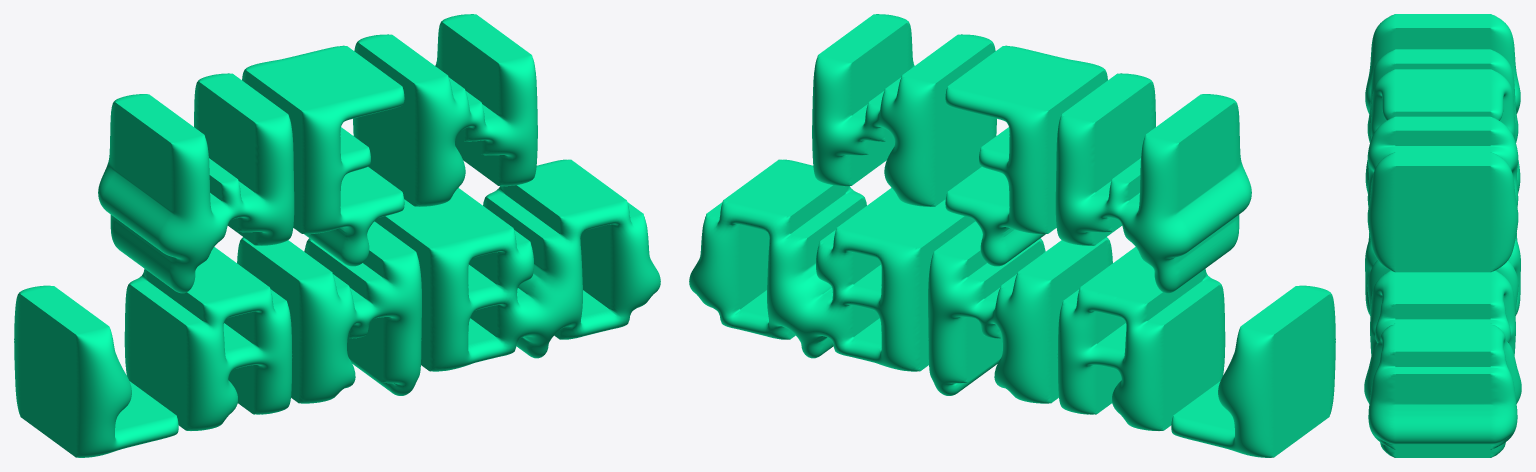
File: WEN-LAMBO-Snot.gltf
The picture shows the model from 3 angles, left to right: view 1: azimuth 30°, elevation 25°; view 2: azimuth 150°, elevation 25°; view 3: azimuth 270°, elevation 25°; orthographic projection. The views are drawn at different scales.
Bounding box in the file's own units: 0.0606 × 0.0306 × 0.0165.
